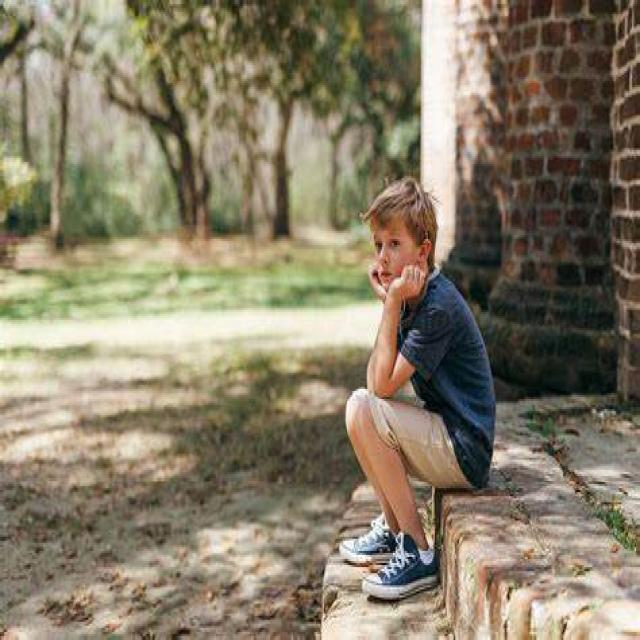sit: (330, 147, 496, 604)
